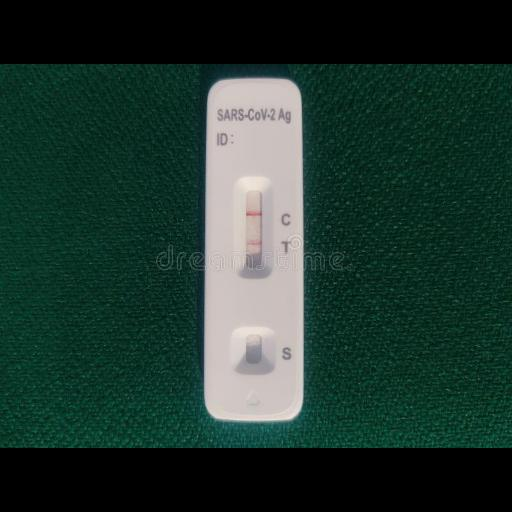Pos: (208, 76, 302, 420)
